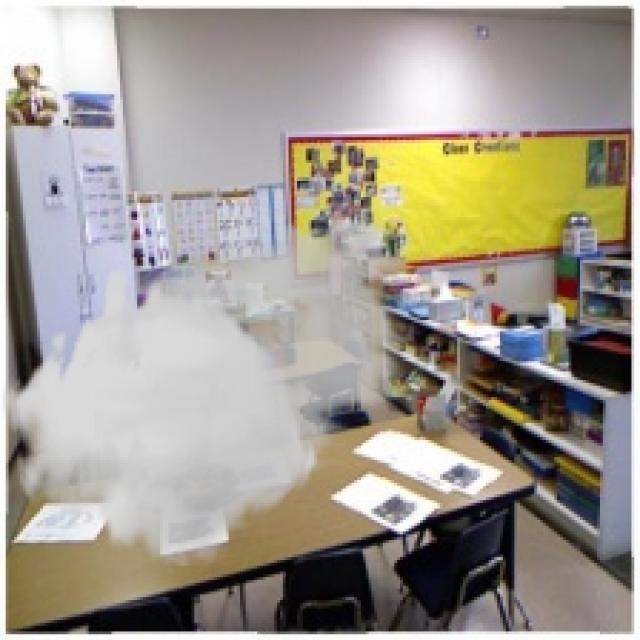Smoke: (0, 200, 415, 566)
